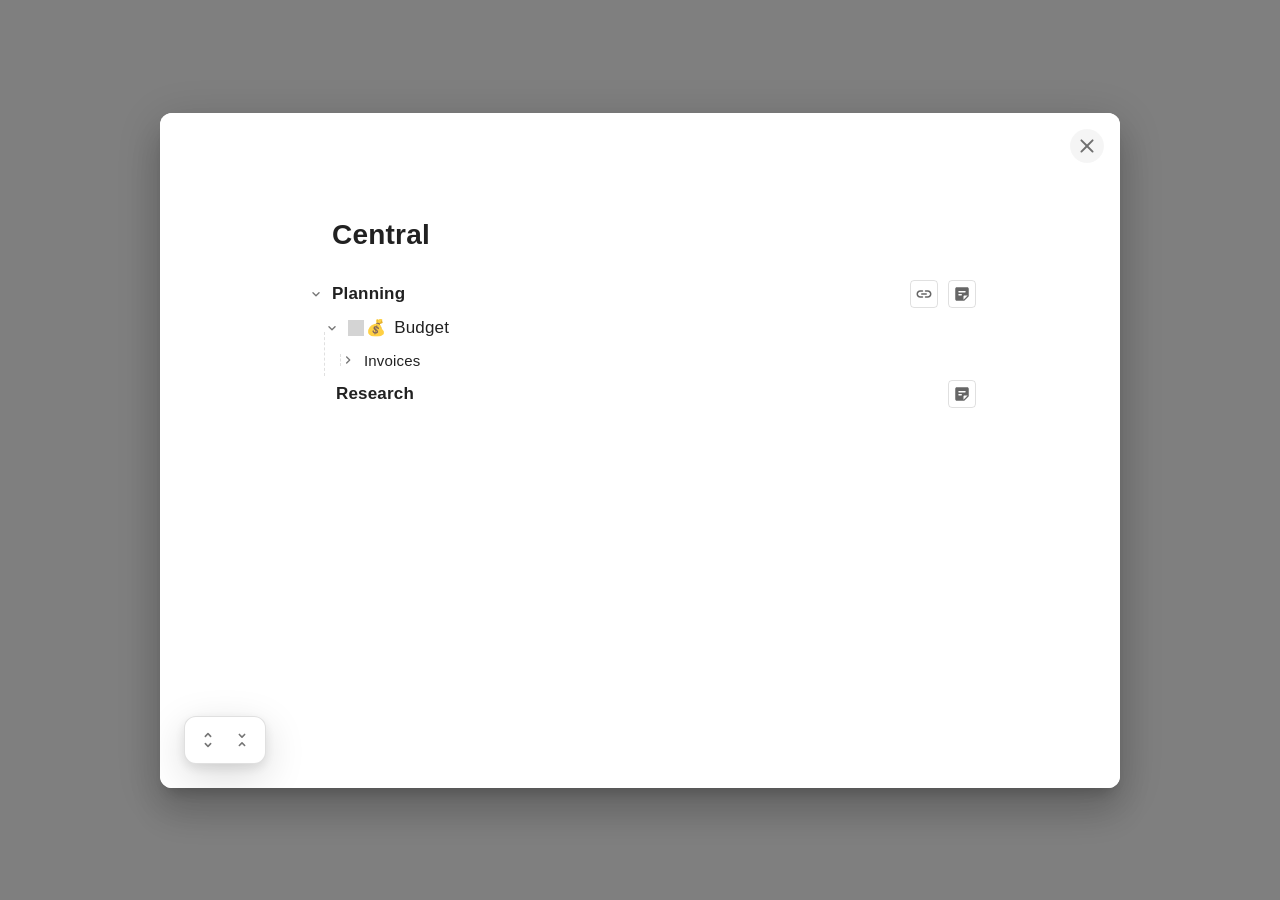
OutlineViewDialog › shows a plain-text note as text when hovering its note icon
This screenshot has width=1280, height=900.
Hover over the button named "note" in the row of "Planning".
mouse_move(962, 294)  # box x1=948 y1=280 x2=976 y2=308
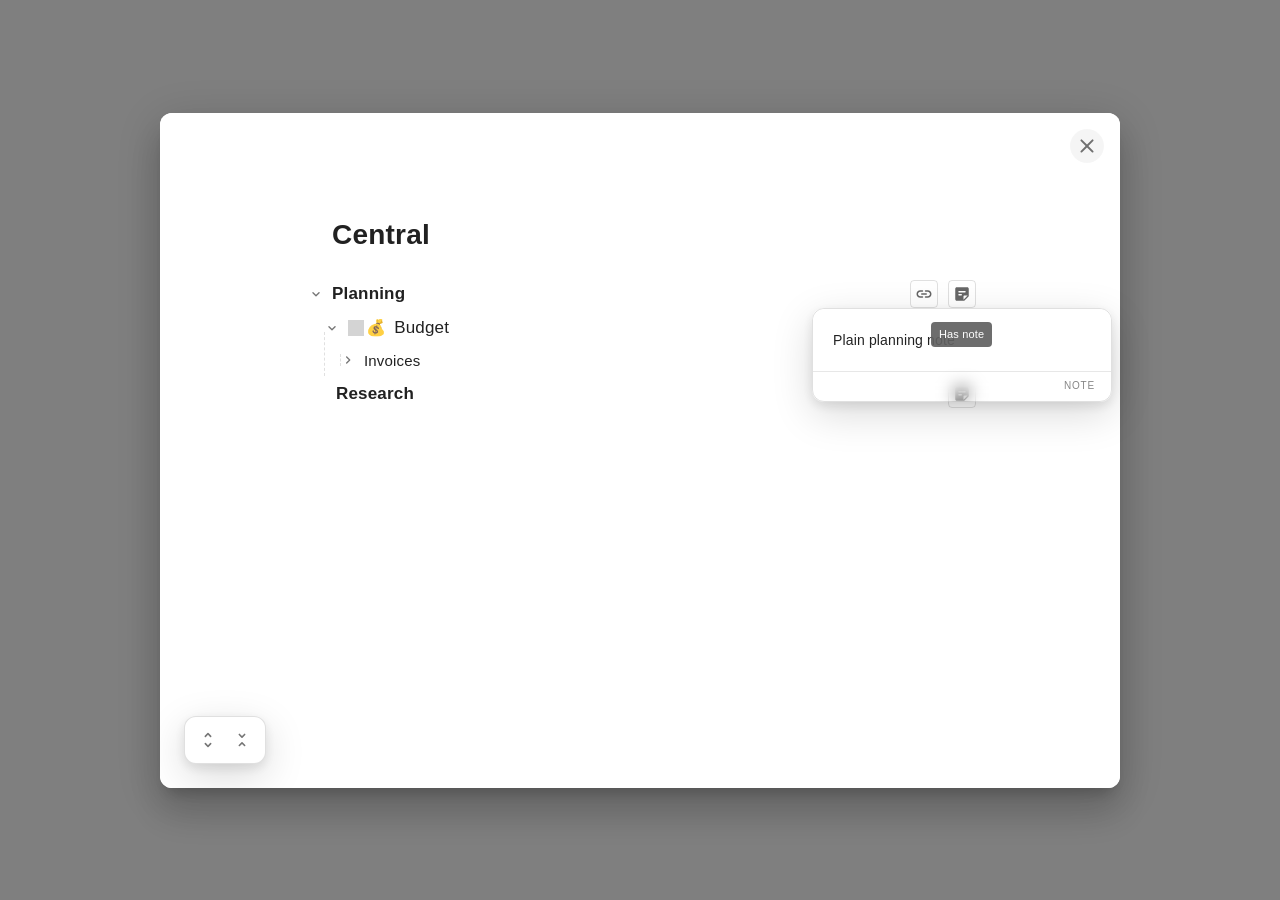
Expected: the text "Plain planning note" is shown, x1=813 y1=309 x2=1111 y2=363
Expected: the text "Note" is shown, x1=813 y1=371 x2=1111 y2=401
